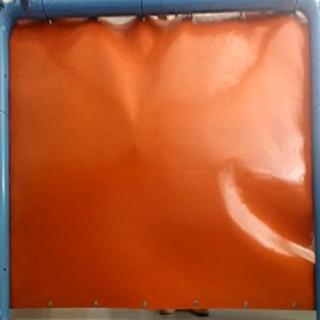Hit-hRxx: (131, 139, 144, 152)
